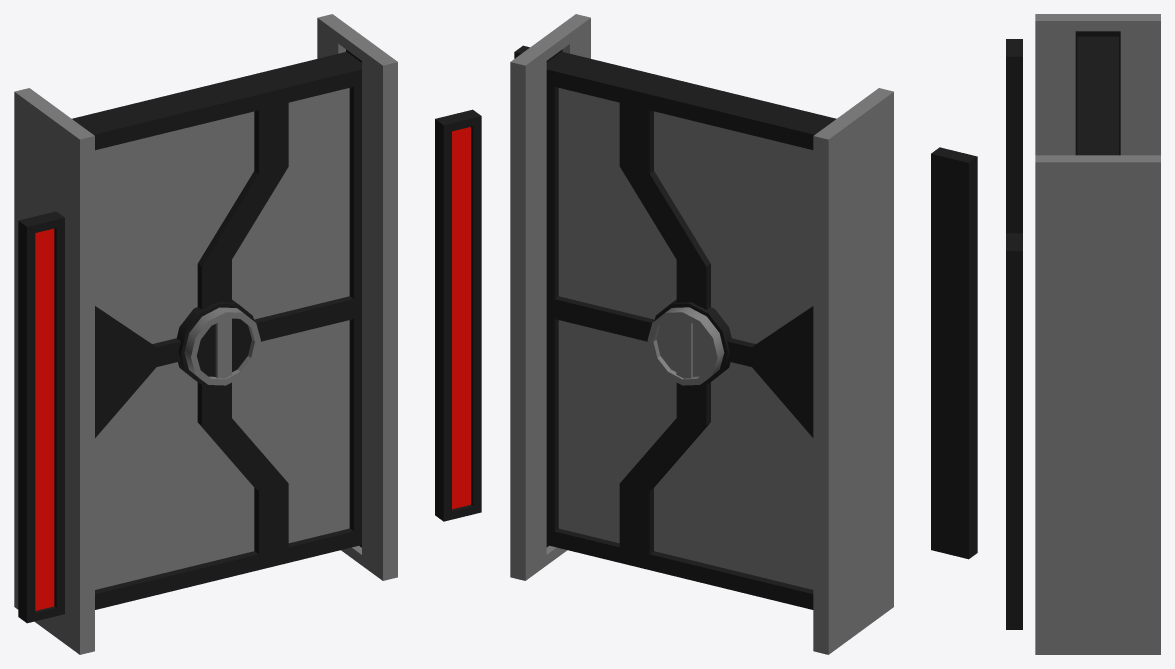
File: Double_Doors.fbx
3 views of the same model, side by side, from view 1: azimuth 30°, elevation 25°; view 2: azimuth 150°, elevation 25°; view 3: azimuth 270°, elevation 25° (orthographic). The views are drawn at different scales.
Parts seen in each view (by area): view 1: Door_Right, Door_Left, Frame_Right, Frame_Left, Door_Indicator_Left, Door_Indicator_Right, Lock, Lock_Frame_Right; view 2: Door_Right, Door_Left, Frame_Right, Frame_Left, Door_Indicator_Right, Lock, Lock_Frame_Right; view 3: Frame_Left, Frame_Right, Door_Indicator_Left, Door_Right, Door_Indicator_Right, Door_Left.
Boxes of the visible parts, x1=… form: Door_Right: x1=72, y1=75, x2=273, y2=609; Door_Left: x1=217, y1=52, x2=361, y2=566; Frame_Right: x1=14, y1=88, x2=94, y2=654; Frame_Left: x1=317, y1=14, x2=397, y2=580; Door_Indicator_Left: x1=435, y1=109, x2=481, y2=521; Door_Indicator_Right: x1=18, y1=211, x2=64, y2=623; Lock: x1=184, y1=307, x2=260, y2=385; Lock_Frame_Right: x1=177, y1=302, x2=219, y2=383; Door_Right: x1=634, y1=75, x2=836, y2=609; Door_Left: x1=546, y1=52, x2=691, y2=566; Frame_Right: x1=813, y1=88, x2=893, y2=654; Frame_Left: x1=510, y1=14, x2=590, y2=580; Door_Indicator_Right: x1=931, y1=147, x2=977, y2=559; Lock: x1=647, y1=307, x2=724, y2=385; Lock_Frame_Right: x1=689, y1=302, x2=731, y2=383; Frame_Left: x1=1035, y1=155, x2=1160, y2=654; Frame_Right: x1=1035, y1=14, x2=1160, y2=155; Door_Indicator_Left: x1=1006, y1=233, x2=1022, y2=629; Door_Right: x1=1077, y1=36, x2=1118, y2=133; Door_Indicator_Right: x1=1006, y1=39, x2=1022, y2=233; Door_Left: x1=1077, y1=133, x2=1118, y2=155.
Bounding box in the file's own units: 120 × 130 × 37.
